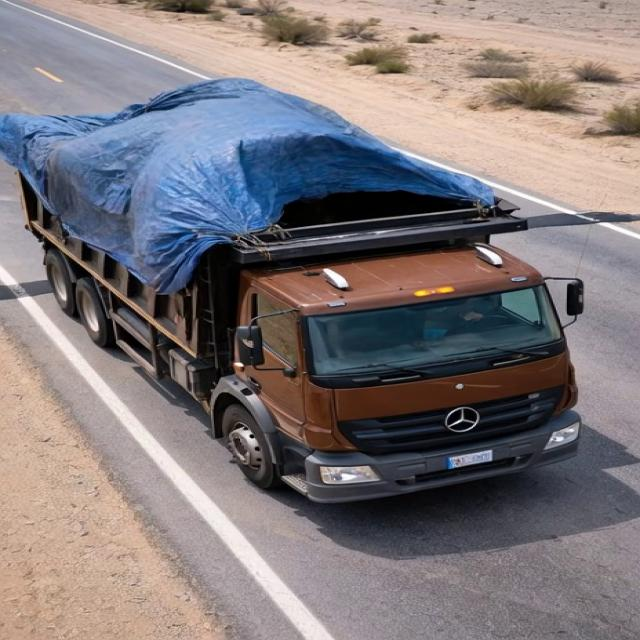trailer: (9, 100, 534, 240)
truck: (20, 88, 605, 516)
